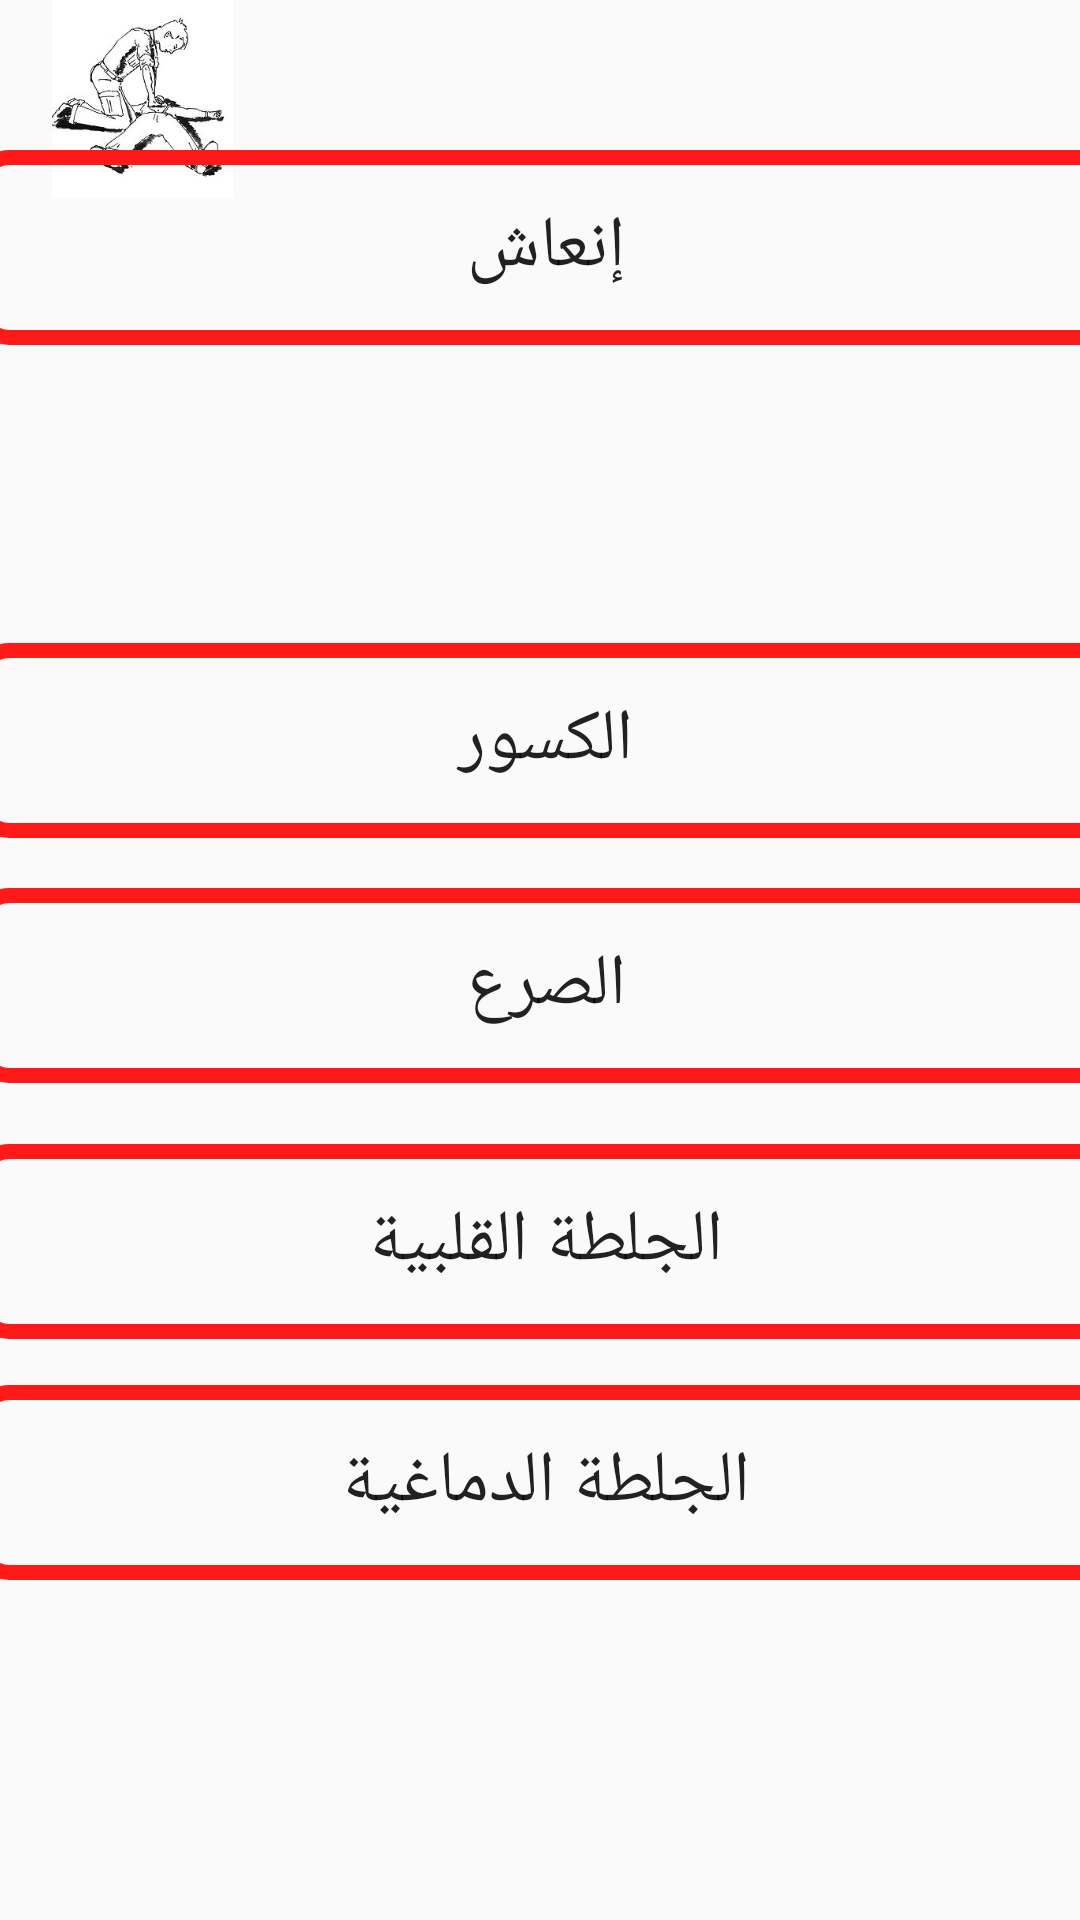

Screen size 1080 × 1920. Icon name, then its box in pixels as {"x1": x1, "y1": y1, "x2": x2, "y2": y2}:
inash: {"x1": 0, "y1": 18, "x2": 285, "y2": 177}
